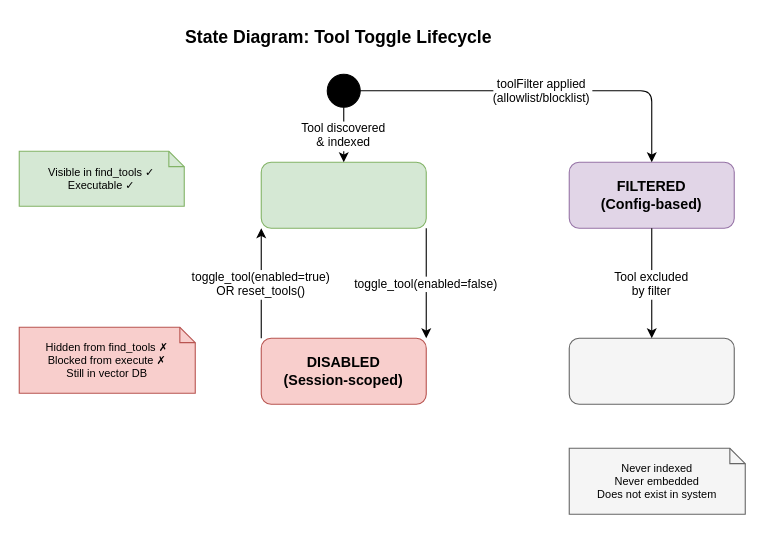
This 765x534 diagram has some shape labels left out. Each missing label, with the centre of its shape:
"ENABLED (Default)" belongs at point 343,194.
"NOT REGISTERED (Not in vector DB)" belongs at point 651,370.
